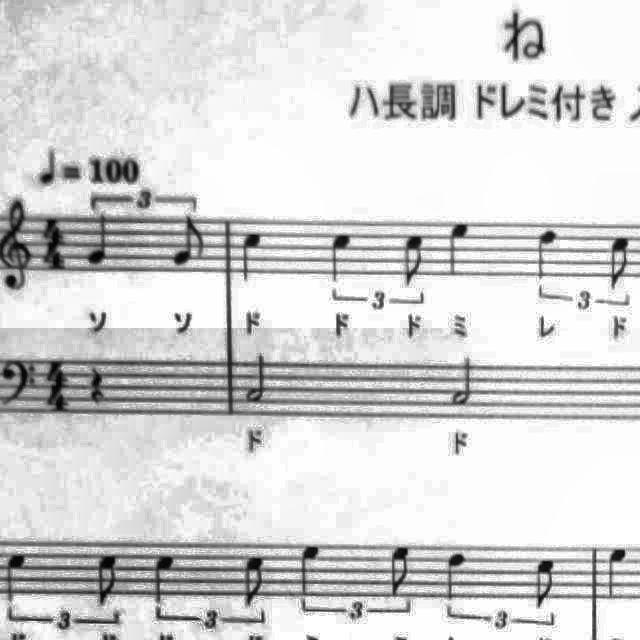Bass-clef: (0, 354, 40, 412)
Eighth-note: (170, 208, 214, 272), (394, 226, 434, 294), (600, 230, 640, 294), (90, 548, 126, 612), (526, 554, 562, 614), (236, 552, 272, 612), (384, 538, 420, 598)
Half-note: (446, 352, 482, 411), (242, 347, 278, 405)
Quarter-note: (440, 214, 478, 282), (322, 224, 360, 290), (530, 222, 566, 286), (292, 538, 328, 602), (601, 540, 637, 604), (234, 226, 270, 288), (438, 544, 474, 604), (148, 550, 184, 610), (84, 211, 118, 271), (0, 544, 32, 607)
Quarter-rest: (83, 361, 113, 411)
Treble-clef: (0, 195, 36, 298)
